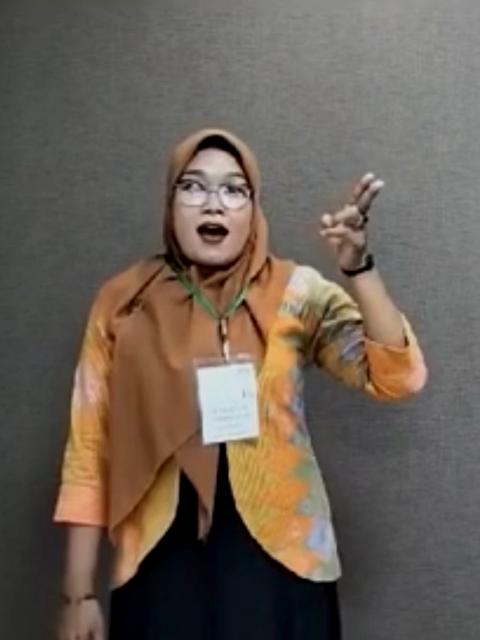H: (315, 168, 387, 276)
